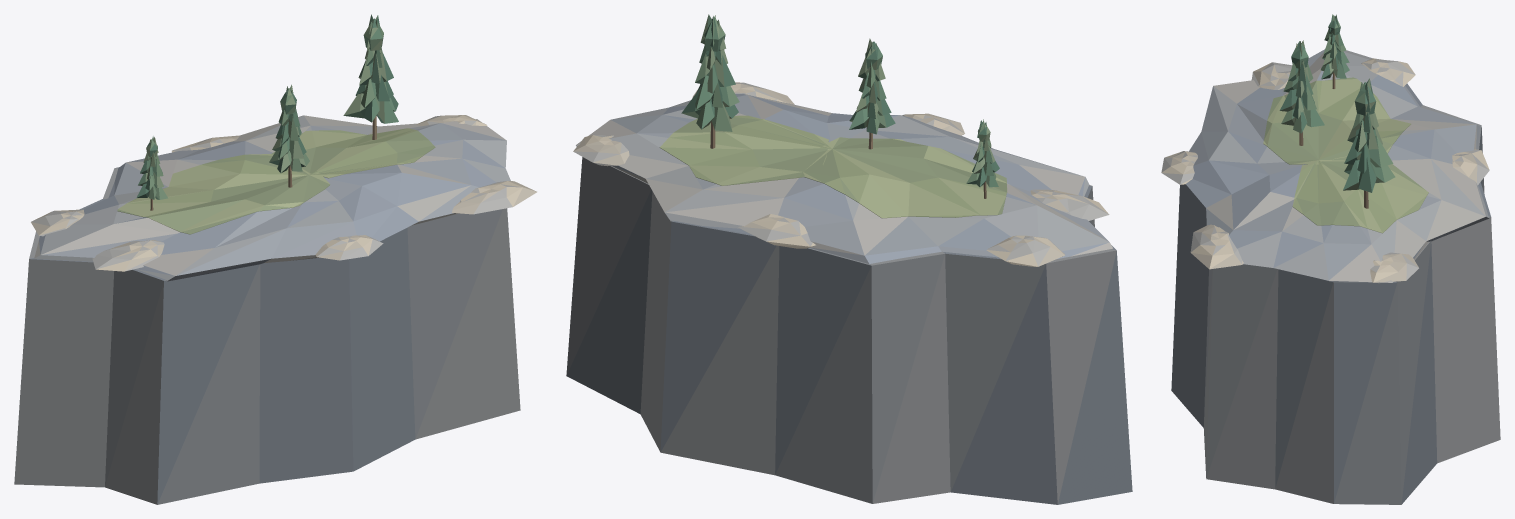
File: island_far_middle.glb
3 views of the same model, side by side, from view 1: azimuth 30°, elevation 25°; view 2: azimuth 150°, elevation 25°; view 3: azimuth 270°, elevation 25° (orthographic). The views are drawn at different scales.
Parts seen in each view (by area): view 1: island_far_middle_rockroot, island_far_middle_shoulder, island_far_middle_grasscap_west, island_far_middle_grasscap_east, island_far_middle_wetshore_05, island_far_middle_wetshore_03, island_far_middle_wetshore_04, island_far_middle_pine_03_crown_tier_00, island_far_middle_wetshore_02, island_far_middle_pine_03_crown_tier_02, island_far_middle_pine_03_crown_tier_01; view 2: island_far_middle_rockroot, island_far_middle_shoulder, island_far_middle_grasscap_west, island_far_middle_grasscap_east, island_far_middle_wetshore_02, island_far_middle_wetshore_01, island_far_middle_wetshore_03, island_far_middle_wetshore_00, island_far_middle_pine_03_crown_tier_00, island_far_middle_pine_03_crown_tier_02, island_far_middle_pine_03_crown_tier_01, island_far_middle_pine_02_crown_tier_00 (+1 smaller); view 3: island_far_middle_rockroot, island_far_middle_shoulder, island_far_middle_grasscap_east, island_far_middle_grasscap_west, island_far_middle_wetshore_05, island_far_middle_wetshore_00, island_far_middle_pine_03_crown_tier_00, island_far_middle_wetshore_04, island_far_middle_wetshore_02, island_far_middle_wetshore_01, island_far_middle_pine_03_crown_tier_01, island_far_middle_wetshore_03 (+4 smaller).
Part boxes in pixels (box(x1,y1,x2,y2)): island_far_middle_rockroot: box(14, 167, 520, 504); island_far_middle_shoulder: box(34, 115, 510, 281); island_far_middle_grasscap_west: box(117, 154, 330, 234); island_far_middle_grasscap_east: box(271, 128, 435, 178); island_far_middle_wetshore_05: box(452, 181, 536, 214); island_far_middle_wetshore_03: box(92, 240, 164, 271); island_far_middle_wetshore_04: box(315, 235, 383, 260); island_far_middle_pine_03_crown_tier_00: box(343, 93, 398, 123); island_far_middle_wetshore_02: box(31, 209, 84, 236); island_far_middle_pine_03_crown_tier_02: box(358, 52, 393, 85); island_far_middle_pine_03_crown_tier_01: box(355, 75, 393, 108); island_far_middle_rockroot: box(566, 157, 1132, 504); island_far_middle_shoulder: box(576, 94, 1112, 263); island_far_middle_grasscap_west: box(803, 137, 1007, 218); island_far_middle_grasscap_east: box(659, 115, 828, 185); island_far_middle_wetshore_02: box(986, 235, 1064, 266); island_far_middle_wetshore_01: box(738, 214, 815, 248); island_far_middle_wetshore_03: box(1030, 189, 1109, 220); island_far_middle_wetshore_00: box(573, 135, 629, 166); island_far_middle_pine_03_crown_tier_00: box(681, 87, 738, 131); island_far_middle_pine_03_crown_tier_02: box(695, 53, 735, 93); island_far_middle_pine_03_crown_tier_01: box(695, 75, 739, 109); island_far_middle_pine_02_crown_tier_00: box(849, 107, 895, 134); island_far_middle_rockroot: box(1171, 50, 1500, 504); island_far_middle_shoulder: box(1186, 49, 1489, 282); island_far_middle_grasscap_east: box(1292, 156, 1428, 233); island_far_middle_grasscap_west: box(1263, 77, 1410, 164); island_far_middle_wetshore_05: box(1190, 224, 1243, 269); island_far_middle_wetshore_00: box(1370, 252, 1418, 283); island_far_middle_pine_03_crown_tier_00: box(1343, 157, 1395, 192); island_far_middle_wetshore_04: box(1161, 151, 1197, 184); island_far_middle_wetshore_02: box(1361, 58, 1415, 86); island_far_middle_wetshore_01: box(1452, 149, 1489, 185); island_far_middle_pine_03_crown_tier_01: box(1344, 135, 1393, 173); island_far_middle_wetshore_03: box(1251, 62, 1292, 89).
Bounding box in the file's own units: 72.71 × 51.34 × 41.84.
